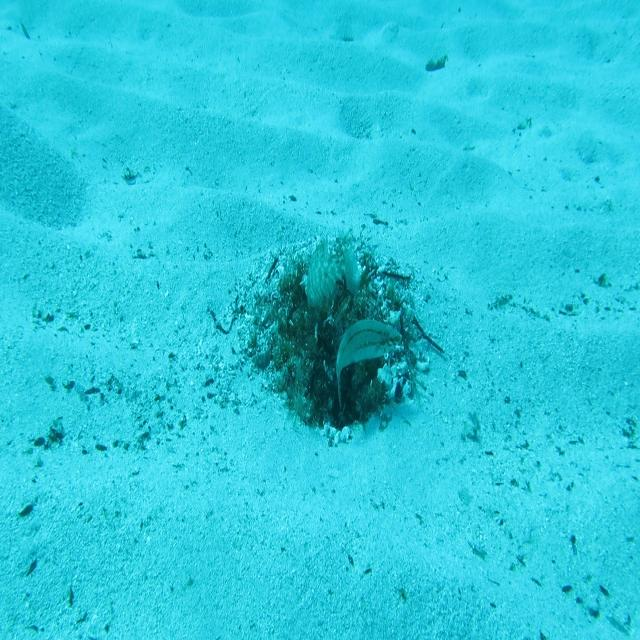NIP_CORE: (302, 234, 364, 312)
female: (335, 316, 403, 414)
nest: (226, 220, 438, 457)
vegetation: (422, 55, 451, 74)
